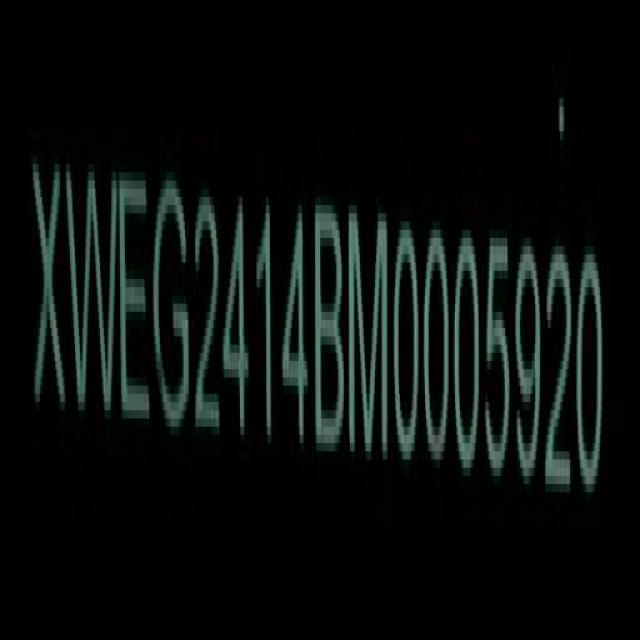0: (395, 213, 423, 464), (577, 260, 605, 497), (456, 229, 483, 472), (425, 221, 451, 469)
1: (256, 192, 275, 453)
2: (195, 184, 224, 446), (547, 250, 574, 495)
4: (283, 195, 312, 458), (223, 190, 251, 452)
5: (485, 235, 512, 481)
9: (516, 243, 541, 488)
B: (316, 198, 346, 461)
E: (118, 169, 153, 436)
G: (154, 170, 192, 438)
M: (350, 209, 390, 465)
W: (70, 161, 119, 430)
X: (33, 147, 68, 424)
